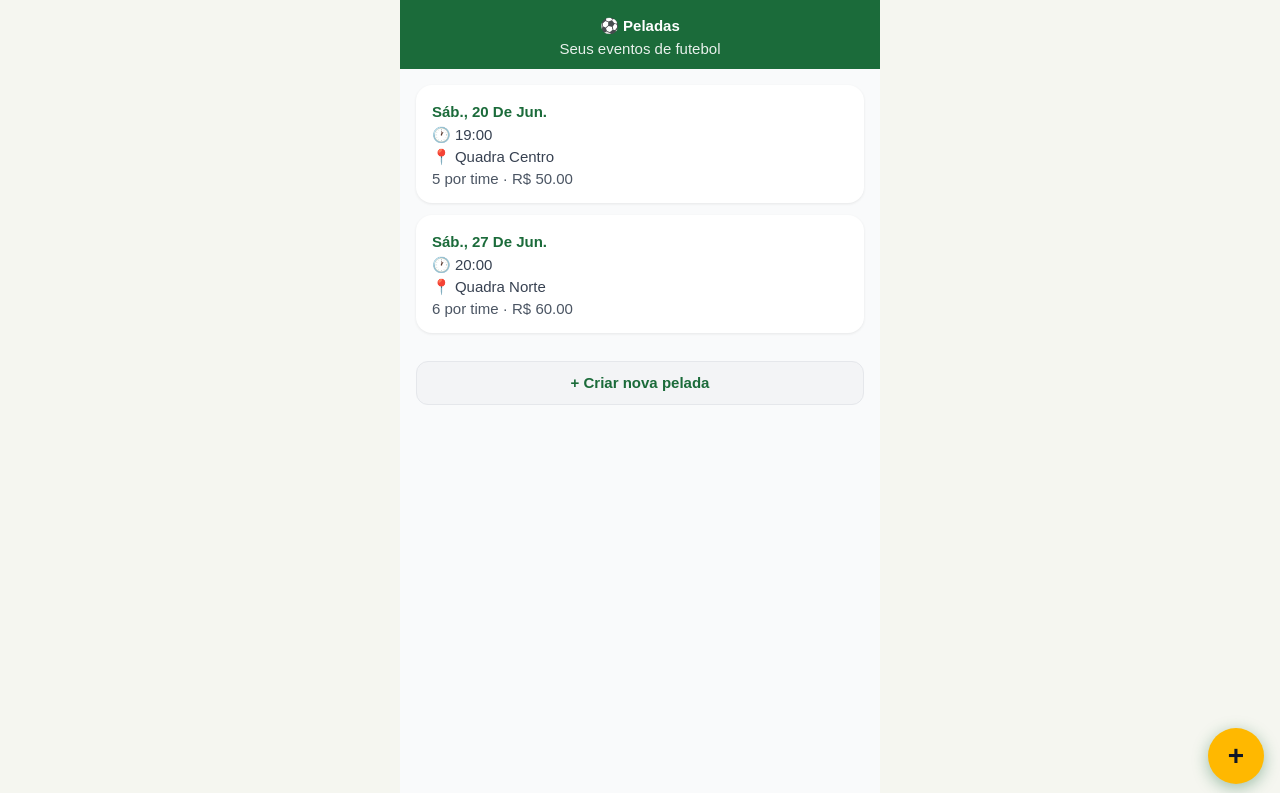
Test case: PeladasScreen › opens create sheet when FAB clicked
Click the button named "Criar nova pelada".
click(1236, 756)  # box left=1208, top=728, right=1264, bottom=784
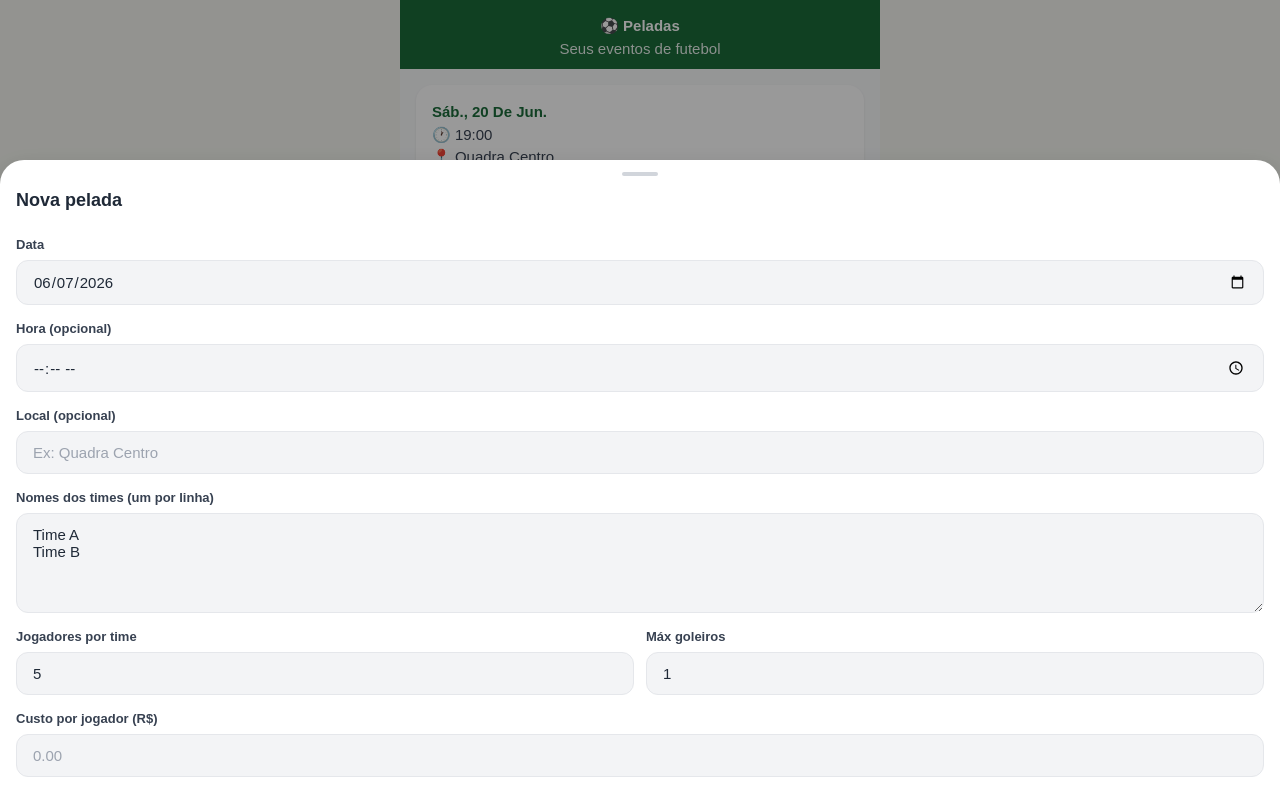
Result: the heading "Nova pelada" is shown at left=16, top=190, right=122, bottom=210
